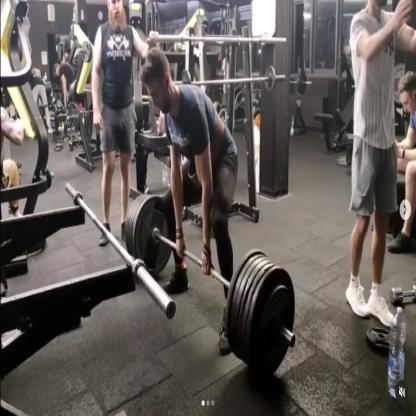barbell: (224, 252, 298, 375)
